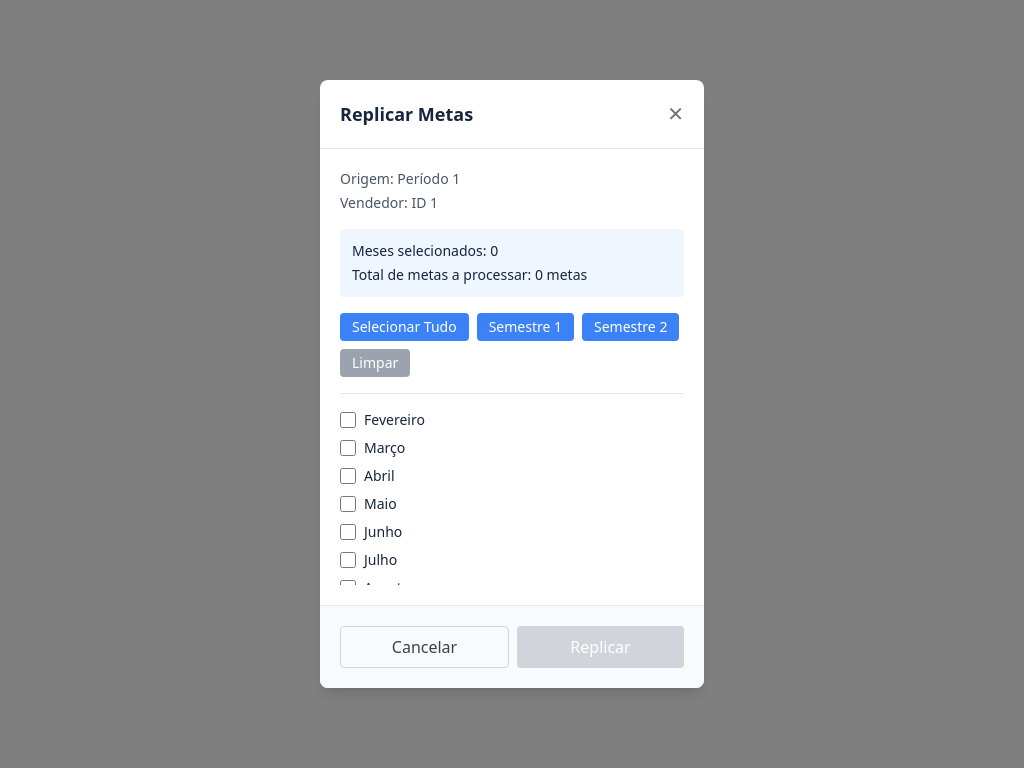
Test: ReplicarMetasModal › atualiza contagem de meses selecionados quando checkbox muda
What coordinates should you click on to do the following:
click the checkbox labelled "Fevereiro"
I would click on:
 (348, 420)
Its box is [340,412,356,428].
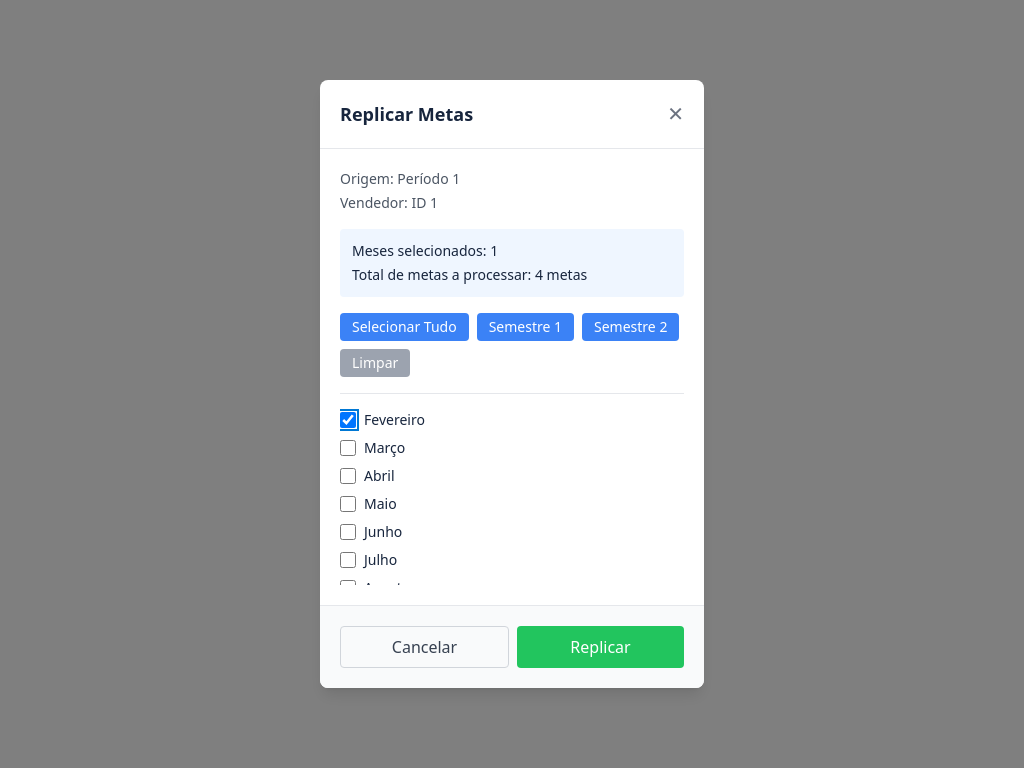
Check: the checkbox labelled "Fevereiro" is checked, box [340,412,356,428]
Check: the text "Meses selecionados: 1" is shown, box [352,241,498,260]
